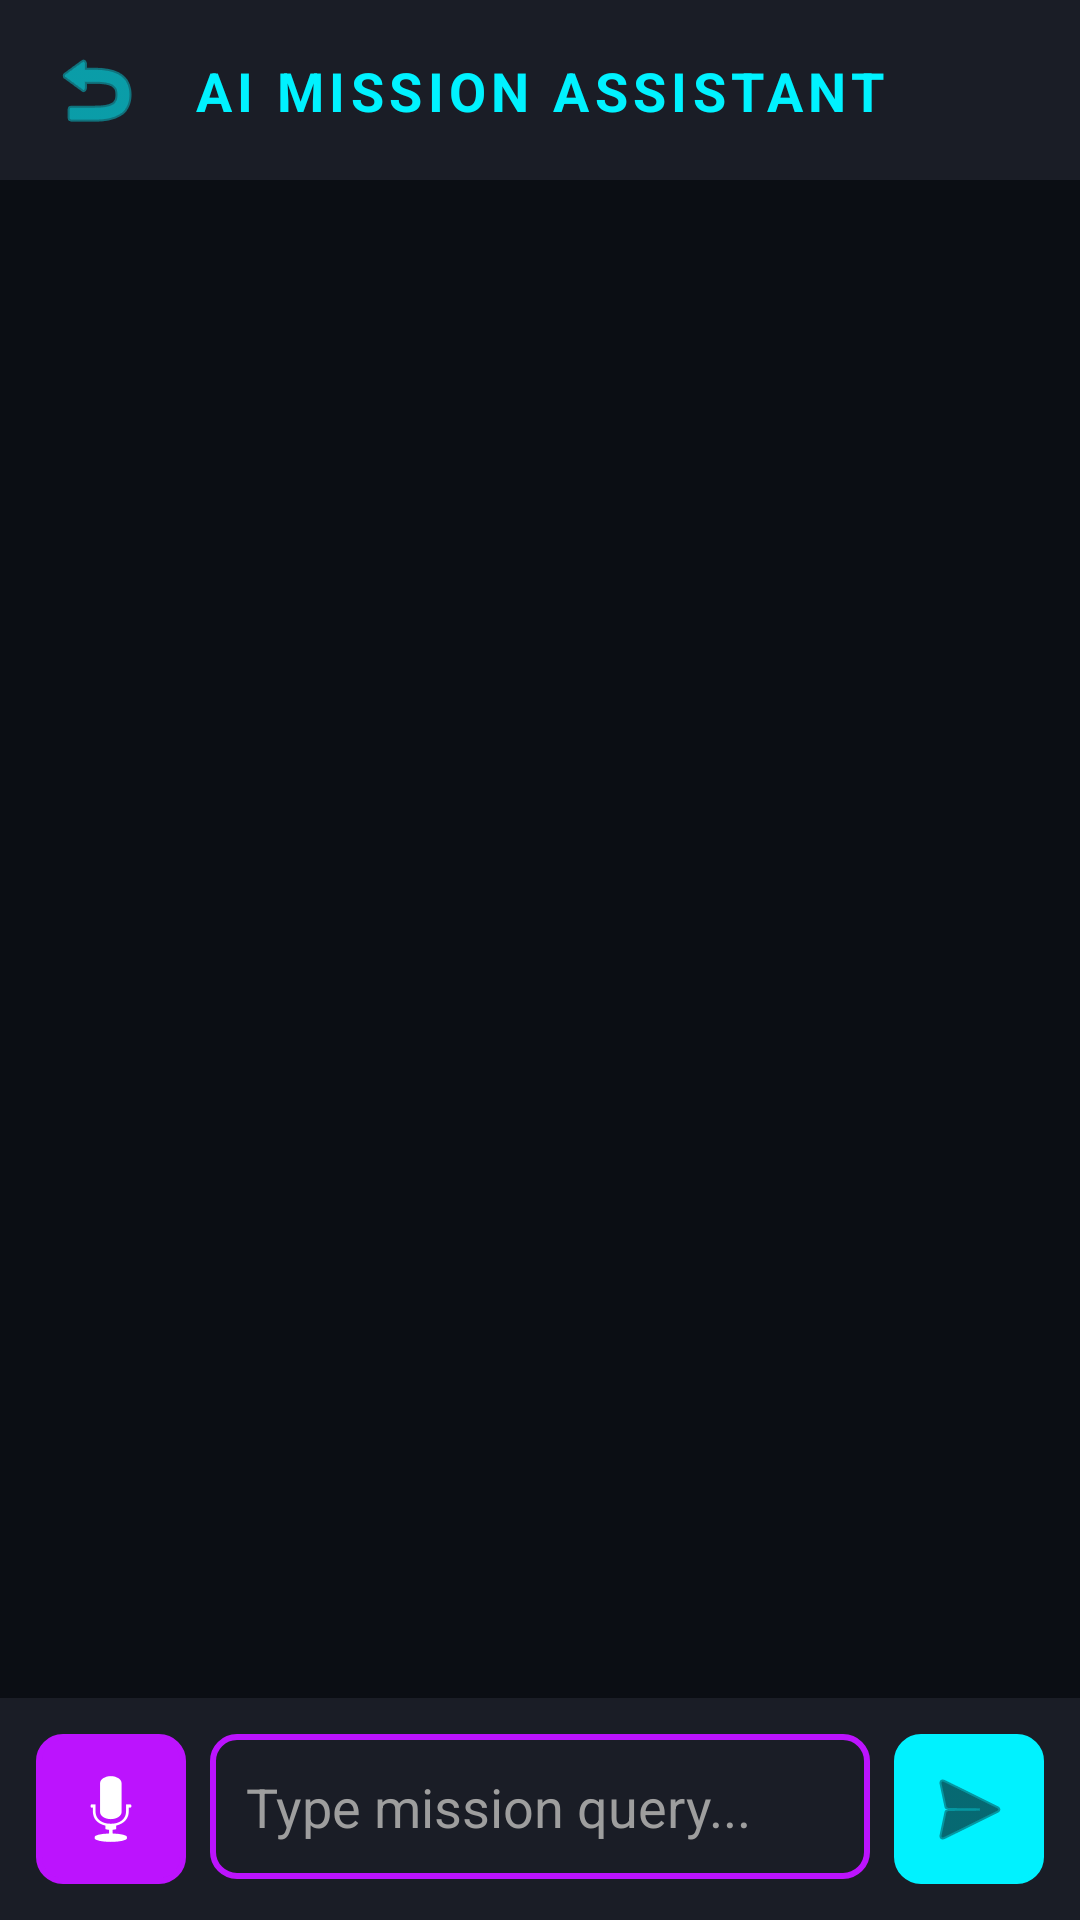

Screen size 1080*1920. Icon name, then its center in pixels as (x,y):
revert: (97,90)
send: (969,1809)
speak now: (111,1809)
